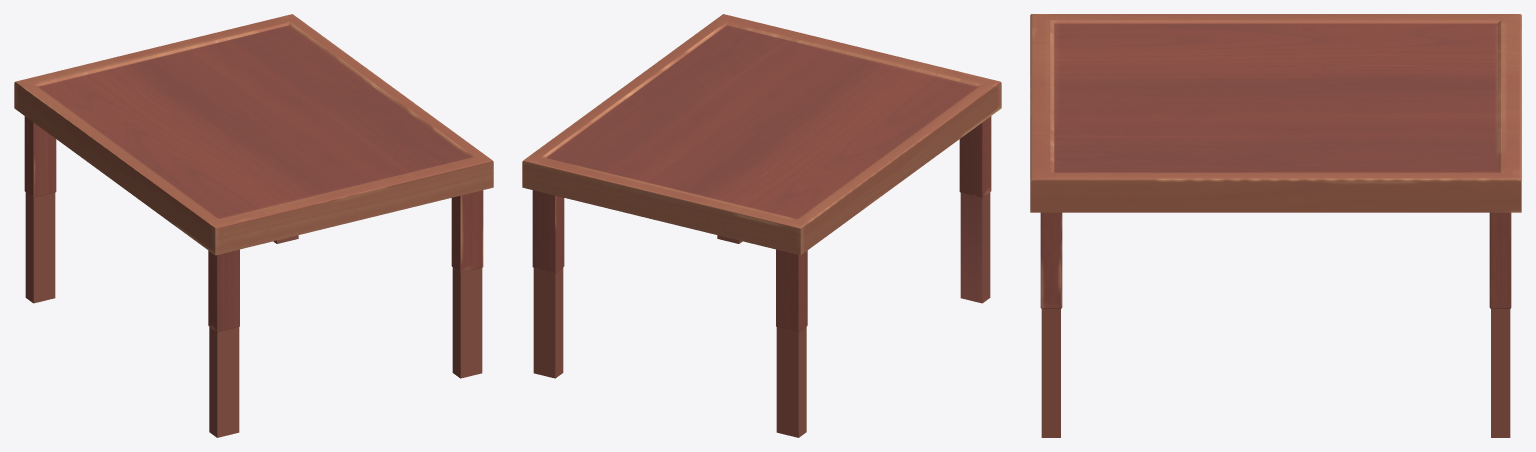
3 views of the same model, side by side, from view 1: azimuth 30°, elevation 25°; view 2: azimuth 150°, elevation 25°; view 3: azimuth 270°, elevation 25° (orthographic). The views are drawn at different scales.
Parts seen in each view (by area): view 1: Table; view 2: Table; view 3: Table.
Part boxes in pixels (x1,y1,x2,y2): Table: (14, 14, 493, 437); Table: (522, 14, 1001, 437); Table: (1030, 14, 1521, 437).
Size of the model in its own units: 3.41 by 2.52 by 4.26.
Materials: 1 (1 with a texture image).
